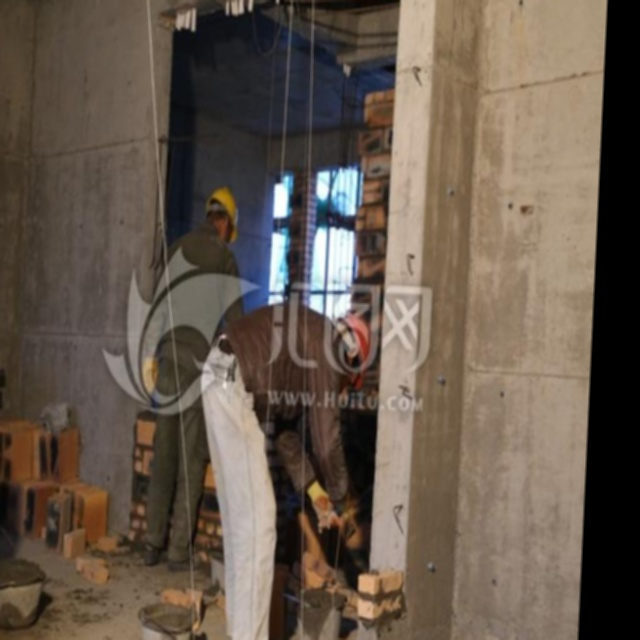Con_Casco: (205, 186, 242, 241)
